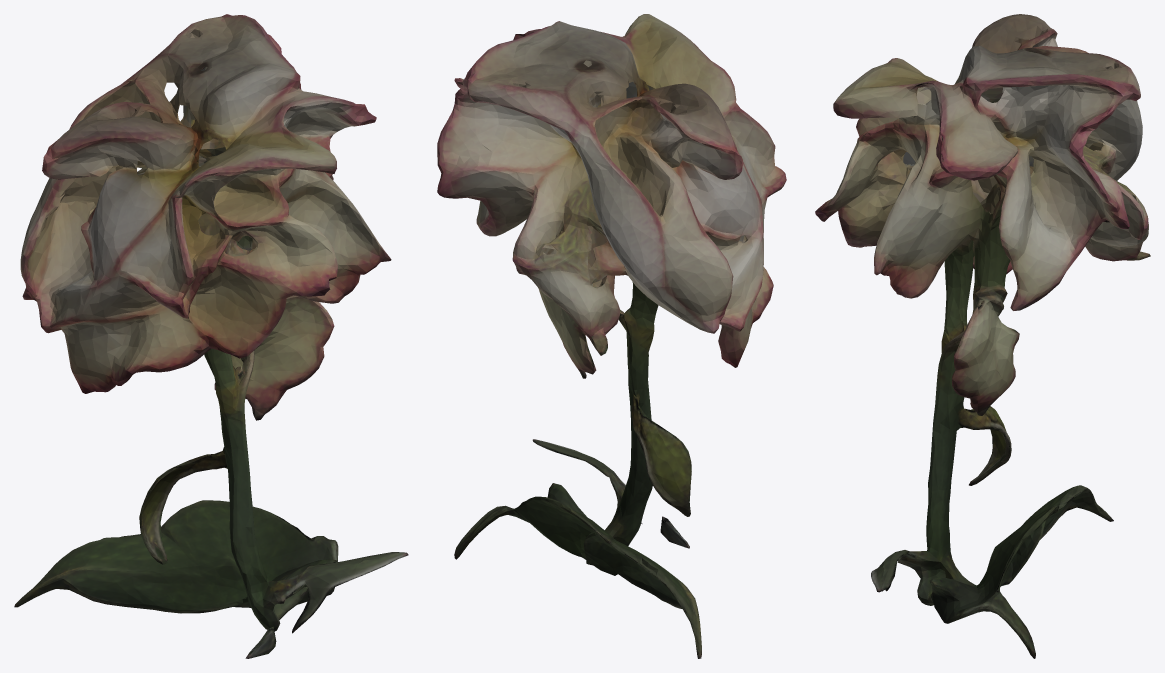
The picture shows the model from 3 angles, left to right: view 1: azimuth 30°, elevation 25°; view 2: azimuth 150°, elevation 25°; view 3: azimuth 270°, elevation 25°; orthographic projection. The views are drawn at different scales.
Parts seen in each view (by area): view 1: world; view 2: world; view 3: world.
Boxes of the visible parts, x1,y1,x2,y2 form: world: (14,14,408,658); world: (437,14,786,658); world: (815,14,1150,658).
Size of the model in its own units: 0.5564 by 0.9775 by 0.5319.
Materials: 1 (1 with a texture image).
